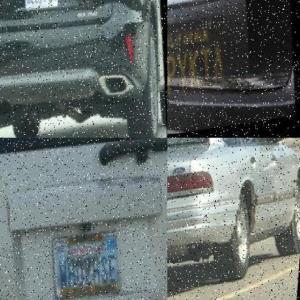Plate: (167, 17, 238, 103), (49, 229, 128, 300), (23, 0, 63, 20)
